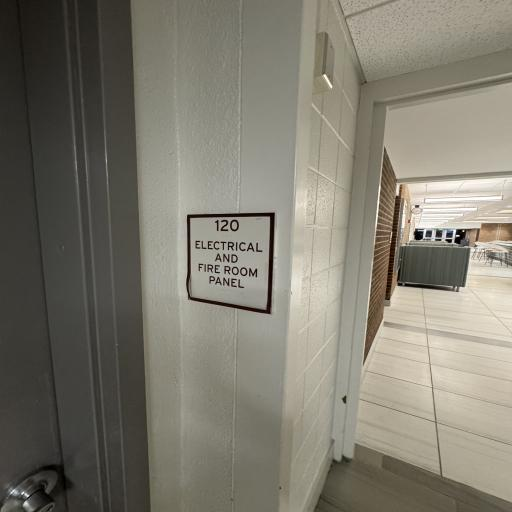door: (4, 2, 110, 512)
room 120 sign: (181, 210, 278, 311)
